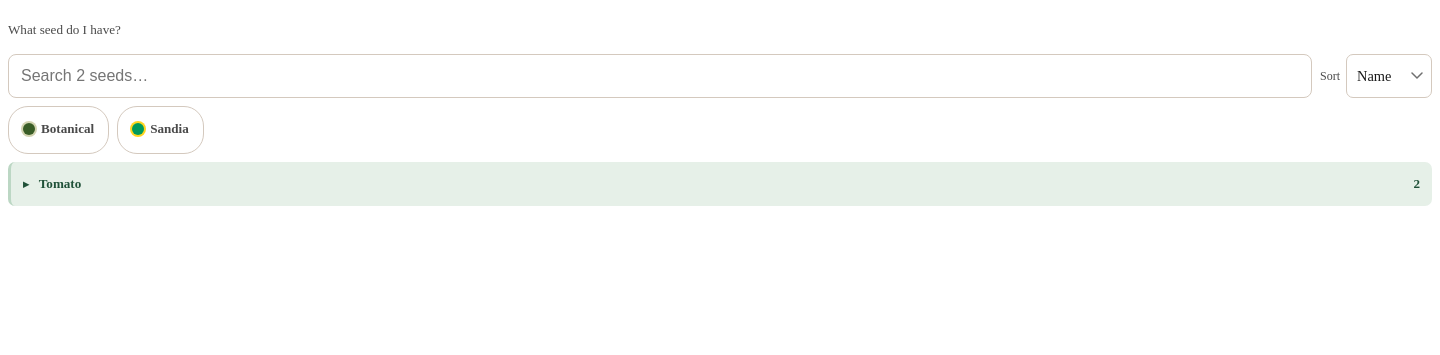
Test case: My seeds — what each card says › a curated supplier gets its short label and its own colours; the chip is a pill, not a button
Expected: the element with test id "my-seeds-view" is shown, [8, 8, 1432, 206]
Step 1. Click the button with test id "facet-group-header" → (60, 184), box [8, 162, 1432, 206]
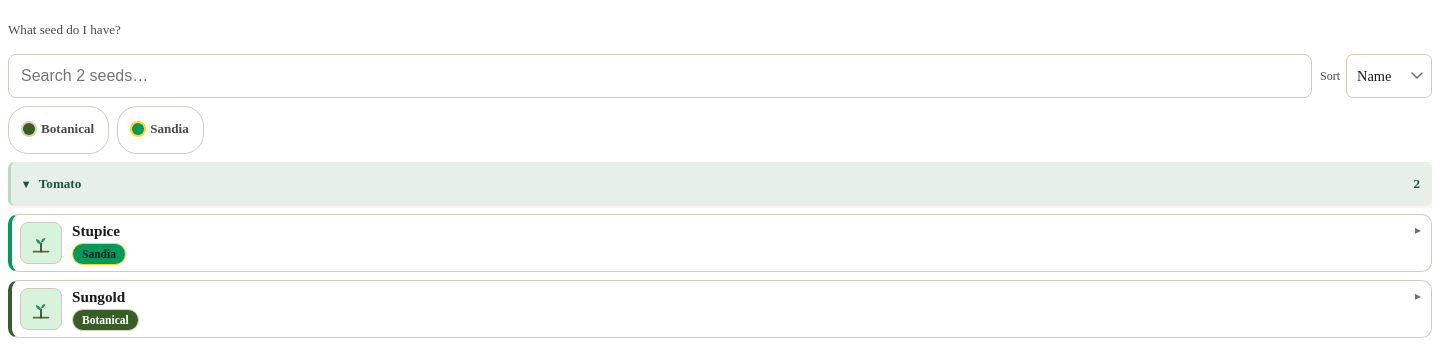
Now the text with test id "my-seed-supplier" reads "Botanical", box [82, 314, 129, 326]
Now the text with test id "my-seed-supplier" reads "Sandia", box [82, 248, 116, 260]
